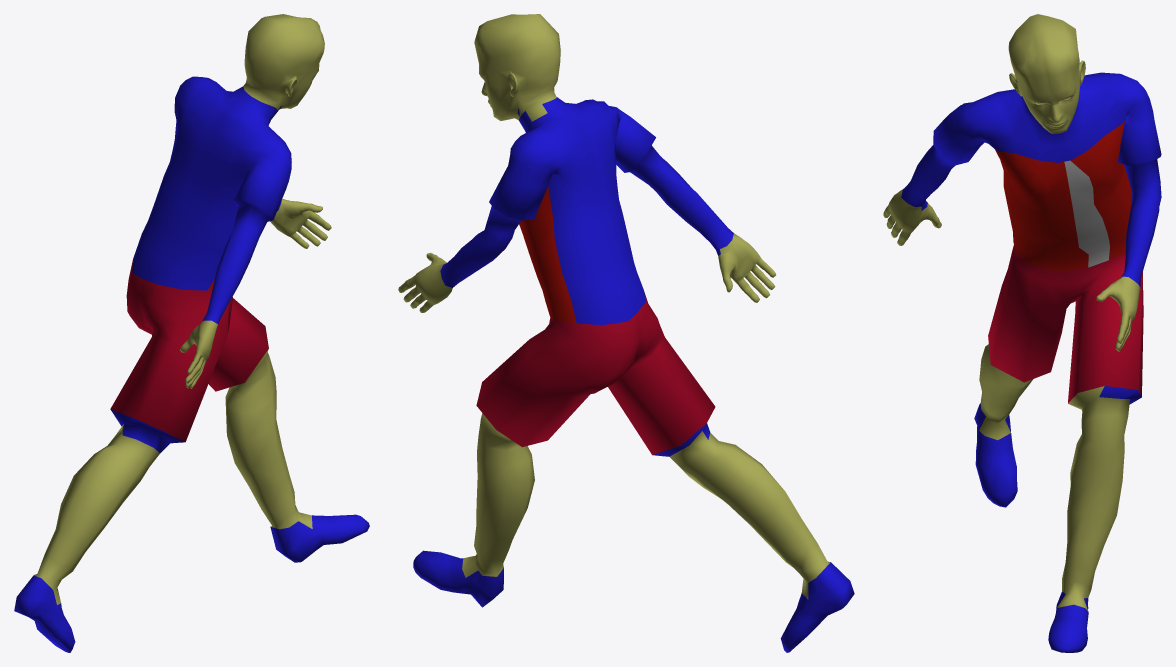
File: player_000011.obj
The picture shows the model from 3 angles, left to right: view 1: azimuth 30°, elevation 25°; view 2: azimuth 150°, elevation 25°; view 3: azimuth 270°, elevation 25°; orthographic projection. The views are drawn at different scales.
Parts seen in each view (by area): view 1: soccerplayer_mesh; view 2: soccerplayer_mesh; view 3: soccerplayer_mesh.
Part boxes in pixels (box(x1,y1,x2,y2)): soccerplayer_mesh: box(14, 14, 369, 652); soccerplayer_mesh: box(398, 14, 854, 652); soccerplayer_mesh: box(883, 14, 1161, 652).
Size of the model in its own units: 3.53 by 4.97 by 2.05.
